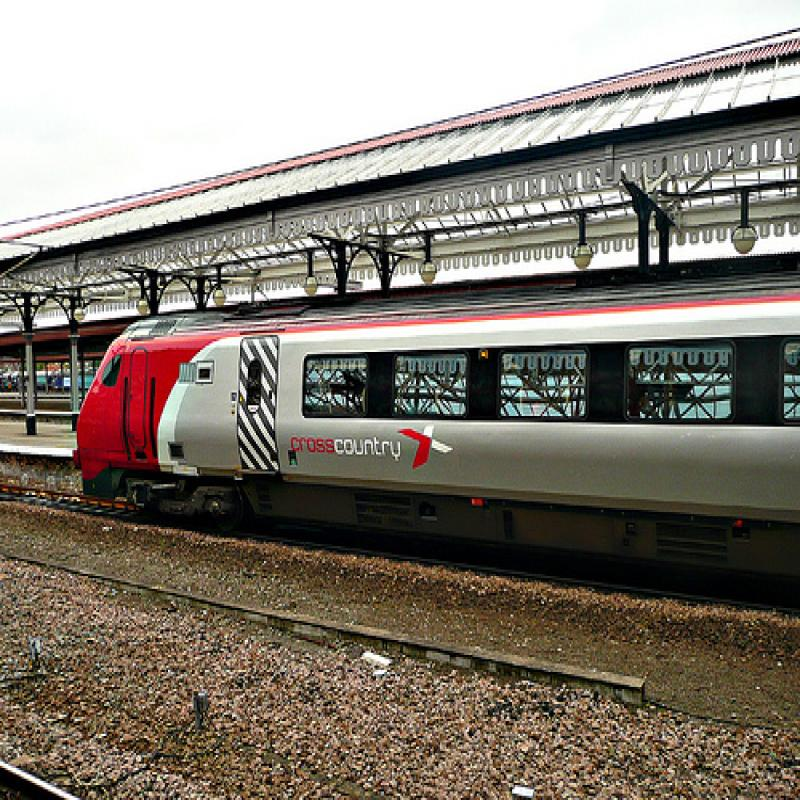train: (78, 298, 800, 618)
